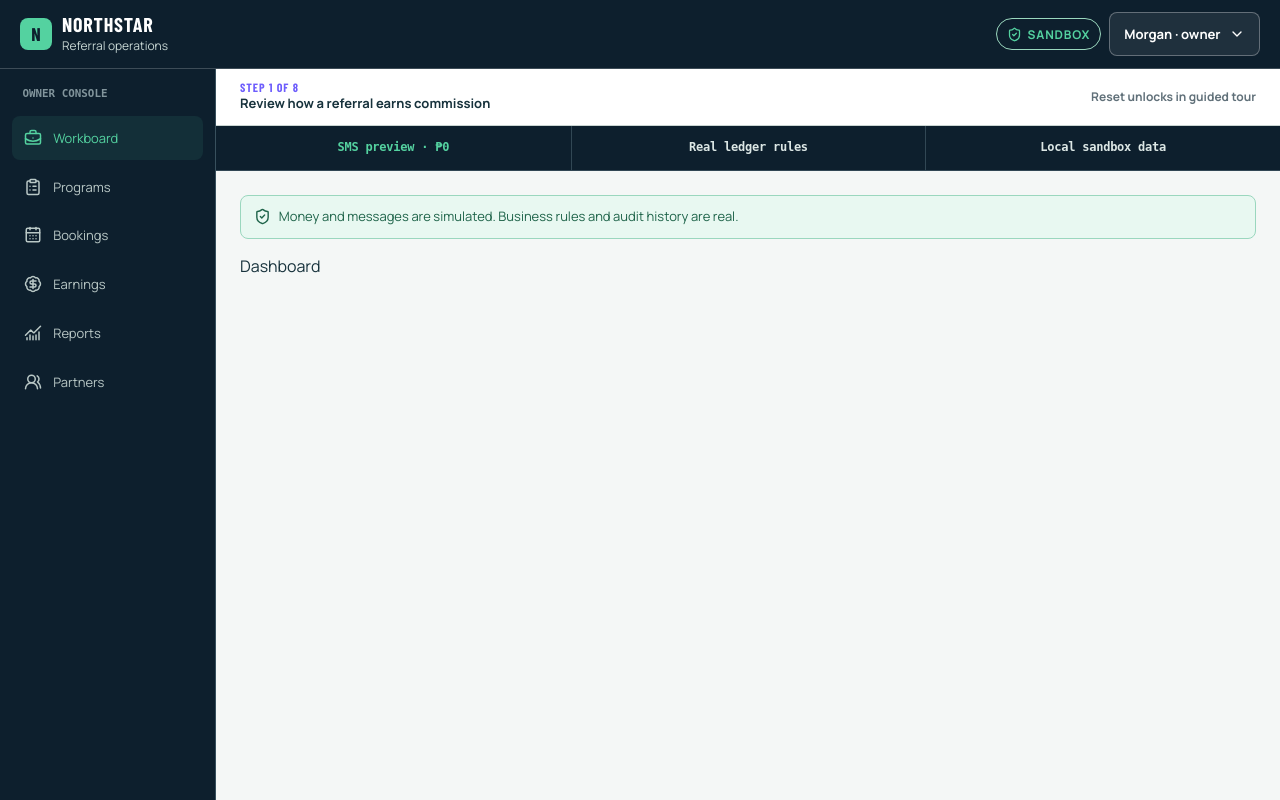
Test: SandboxShell › keeps the current role and shows a visible alert when persona switching fails
This screenshot has width=1280, height=800.
Click the button "Morgan · owner": (1184, 34) left=1109, top=12, right=1260, bottom=56
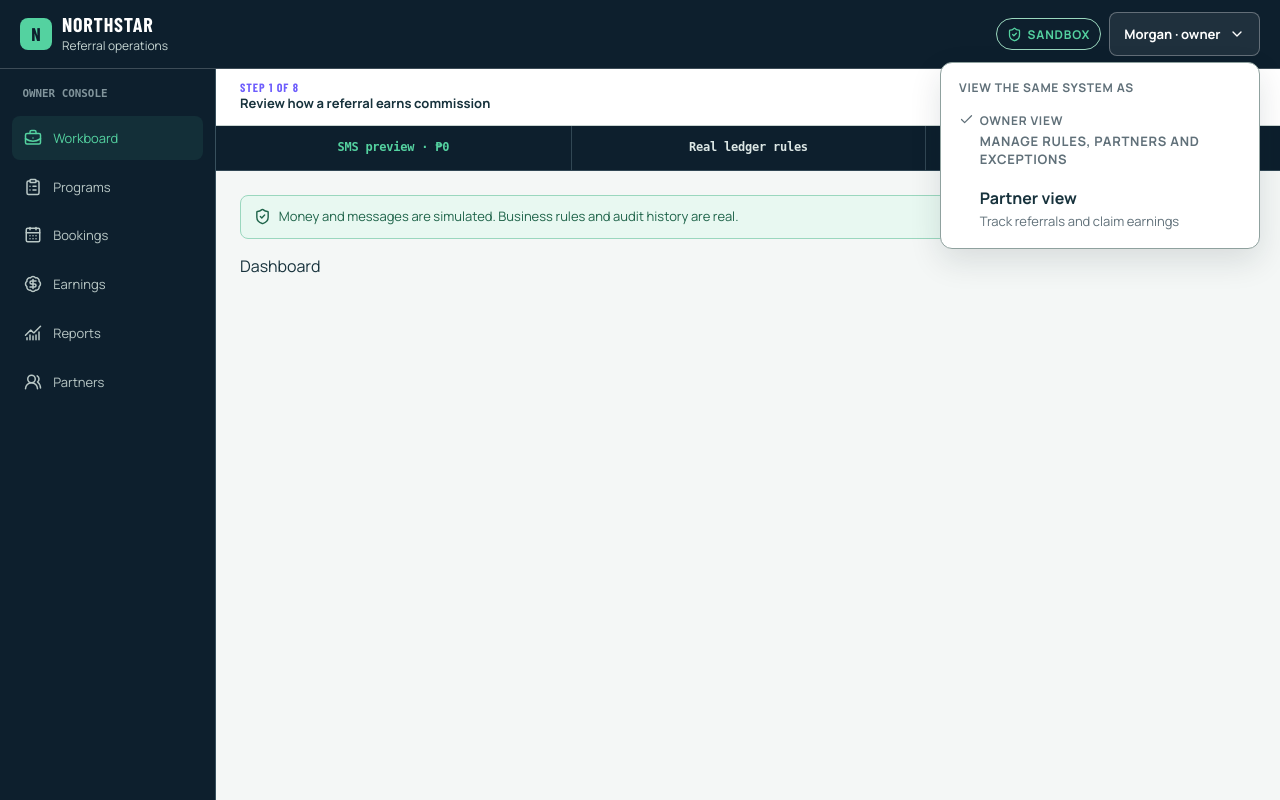
Click the menu item "Partner view Track referrals and claim earnings": (1080, 208) left=980, top=187, right=1179, bottom=230
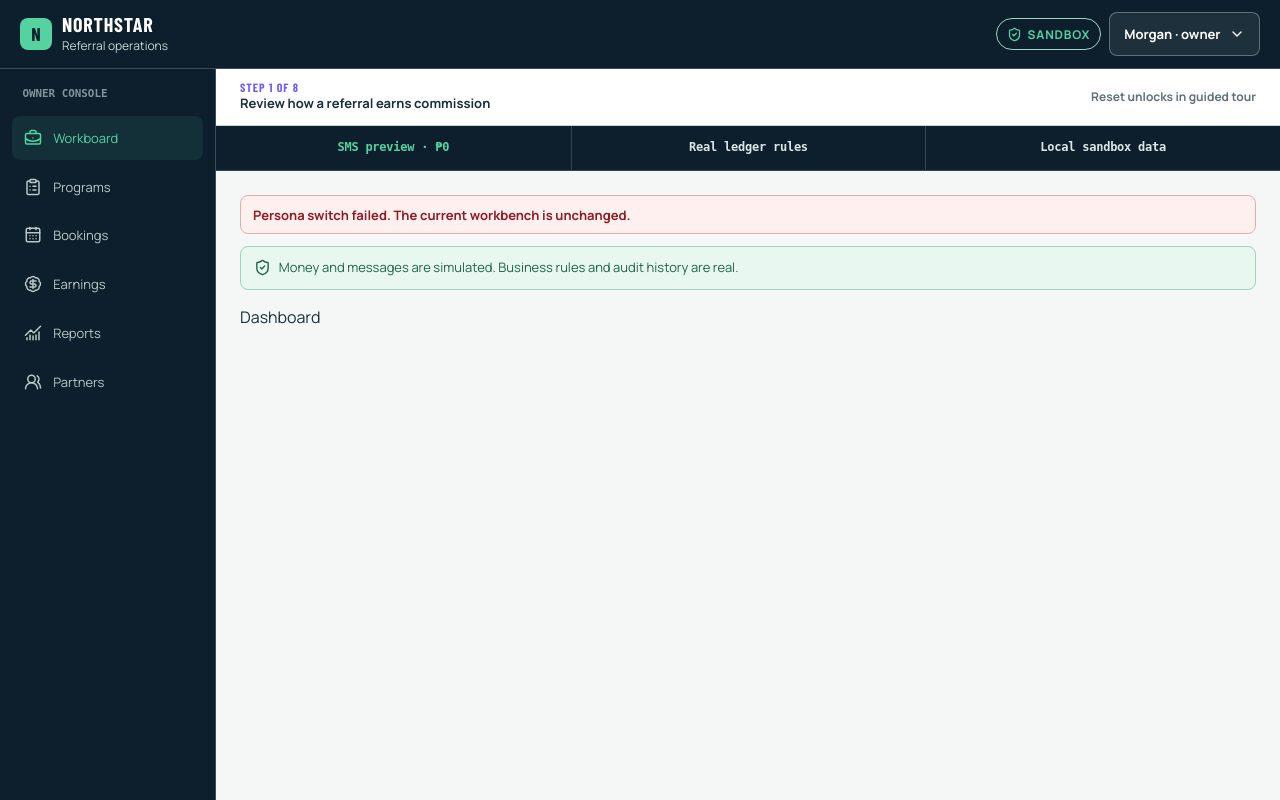
Expected: the button "Morgan · owner" is enabled, left=1109, top=12, right=1260, bottom=56
Now the message shows "Persona switch failed", box left=253, top=206, right=630, bottom=224
